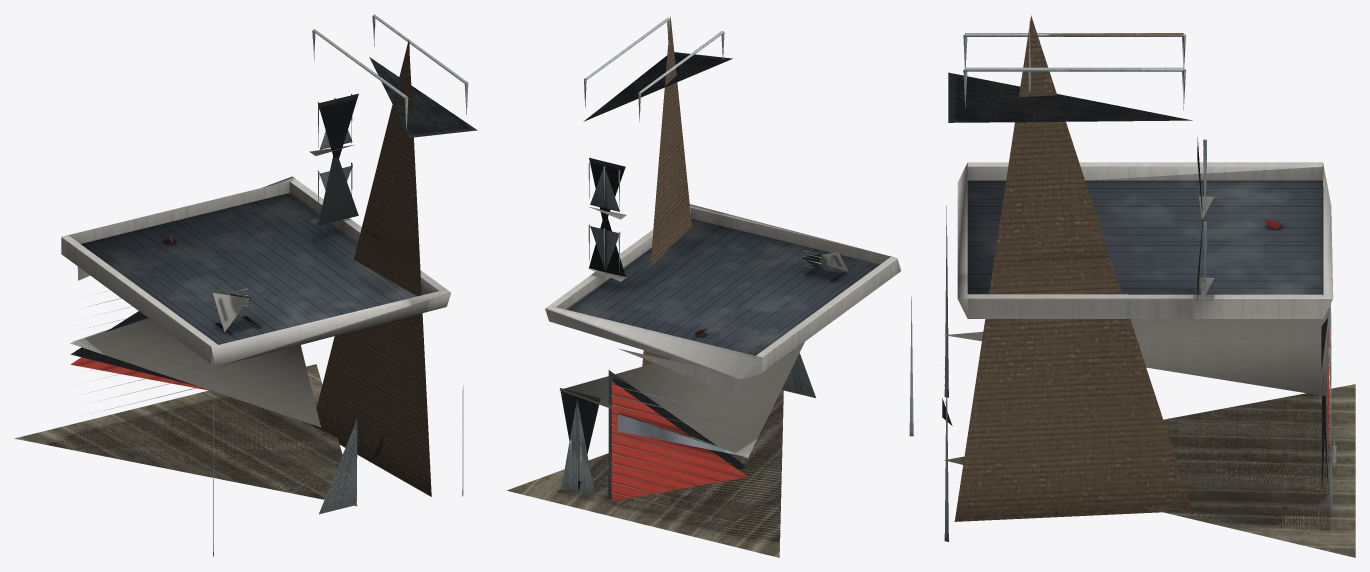
File: public_002.lod2.obj
The picture shows the model from 3 angles, left to right: view 1: azimuth 30°, elevation 25°; view 2: azimuth 150°, elevation 25°; view 3: azimuth 270°, elevation 25°; orthographic projection. The views are drawn at different scales.
Visible parts, largest first — view 1: public_002; view 2: public_002; view 3: public_002.
Part boxes in pixels (x1=…): public_002: x1=14, y1=14, x2=477, y2=556; public_002: x1=507, y1=16, x2=913, y2=557; public_002: x1=942, y1=15, x2=1355, y2=557.
Size of the model in its own units: 6.5 by 9 by 6.5.
1 material, 1 textured.
